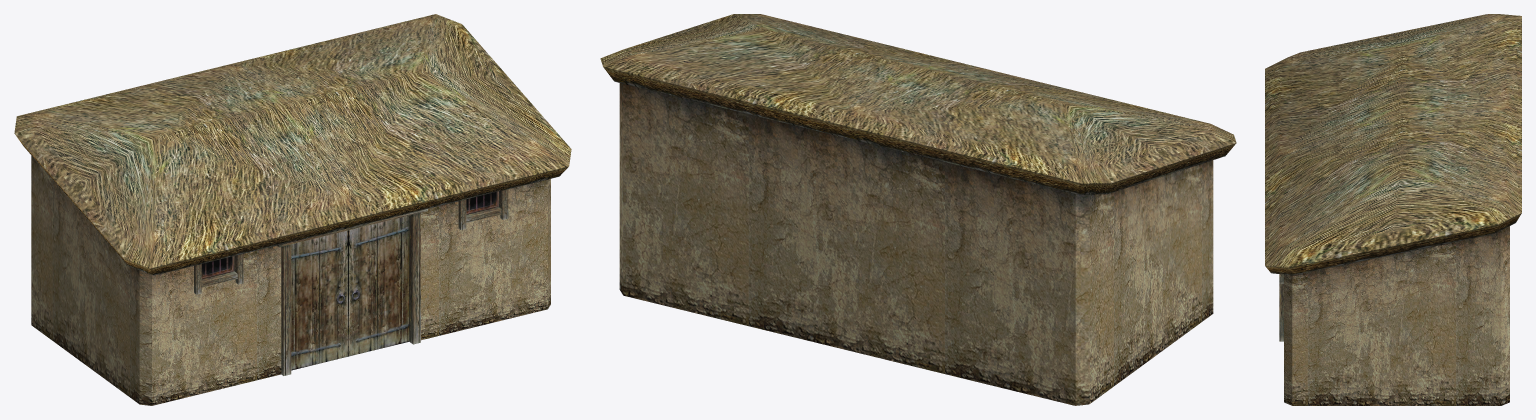
File: mhouse10.glb
The picture shows the model from 3 angles, left to right: view 1: azimuth 30°, elevation 25°; view 2: azimuth 150°, elevation 25°; view 3: azimuth 270°, elevation 25°; orthographic projection. The views are drawn at different scales.
Parts seen in each view (by area): view 1: mhouse10; view 2: mhouse10; view 3: mhouse10.
Boxes of the visible parts, box(x1,y1,x2,y2) form: mhouse10: box(14, 14, 571, 405); mhouse10: box(600, 14, 1236, 405); mhouse10: box(1265, 14, 1521, 405).
Bounding box in the file's own units: 8.82 × 3.91 × 4.55.
7 materials, 7 textured.
